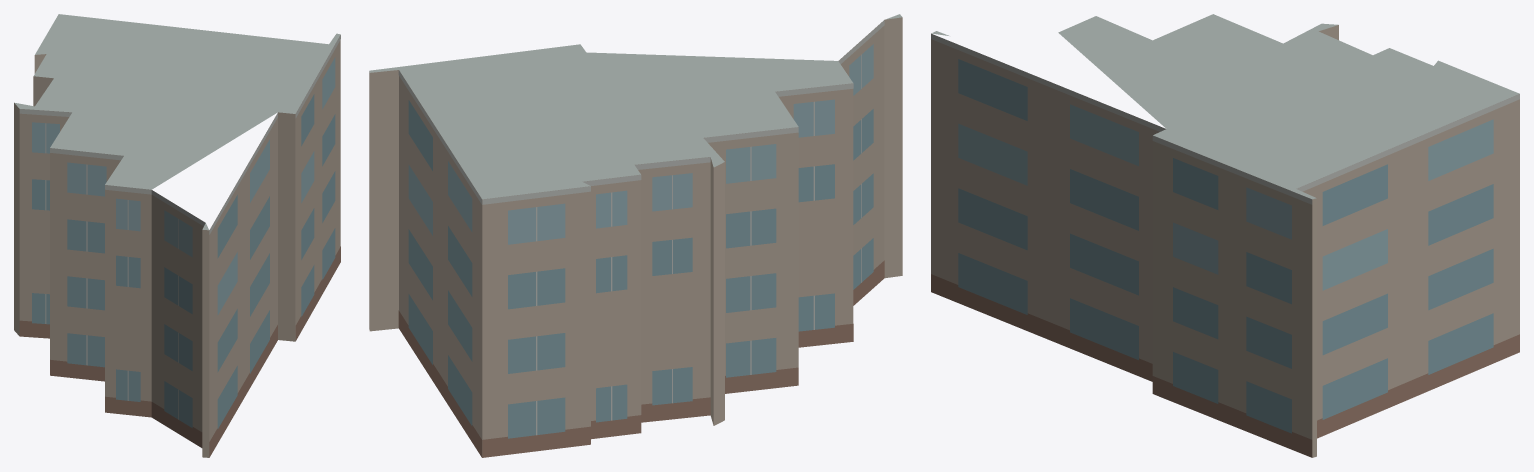
File: survey-upis-32998763.glb
3 views of the same model, side by side, from view 1: azimuth 30°, elevation 25°; view 2: azimuth 150°, elevation 25°; view 3: azimuth 270°, elevation 25° (orthographic). The views are drawn at different scales.
Parts seen in each view (by area): view 1: survey-upis-32998763.tmp; view 2: survey-upis-32998763.tmp; view 3: survey-upis-32998763.tmp.
Boxes of the visible parts, <box> form: survey-upis-32998763.tmp: <box>14,14,340,457</box>; survey-upis-32998763.tmp: <box>369,14,902,457</box>; survey-upis-32998763.tmp: <box>931,14,1519,457</box>.
Bounding box in the file's own units: 17.57 × 11.42 × 23.58.
